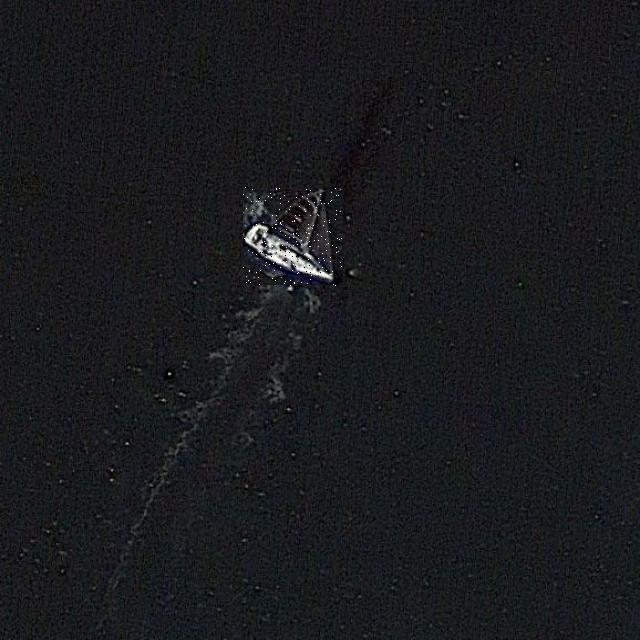boat: (243, 187, 342, 286)
